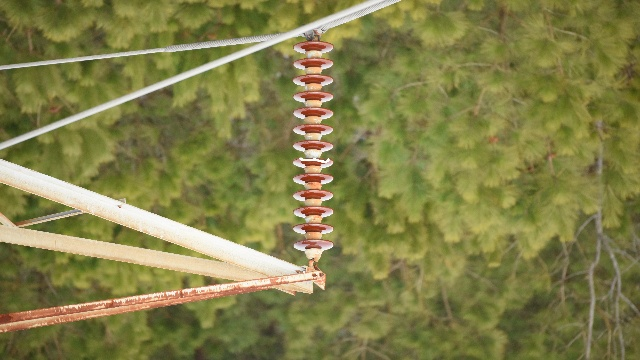broken_local: (298, 155, 333, 164)
insulator_unspecified: (291, 42, 335, 251)
